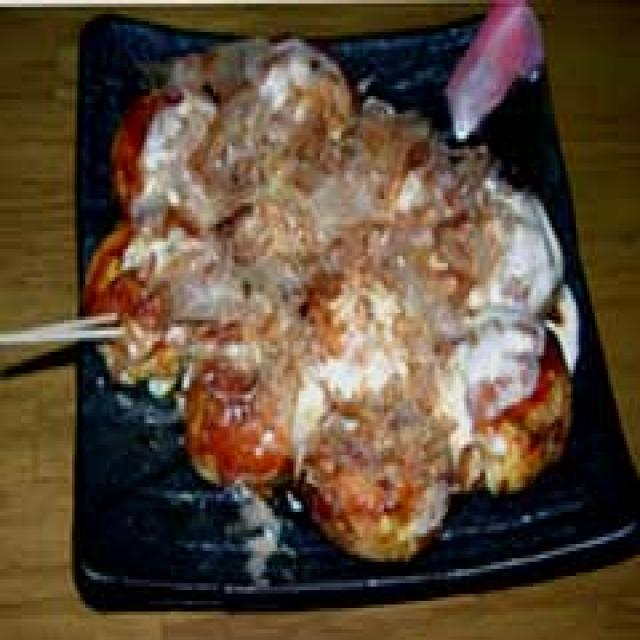炸货点心: (80, 25, 579, 576)
